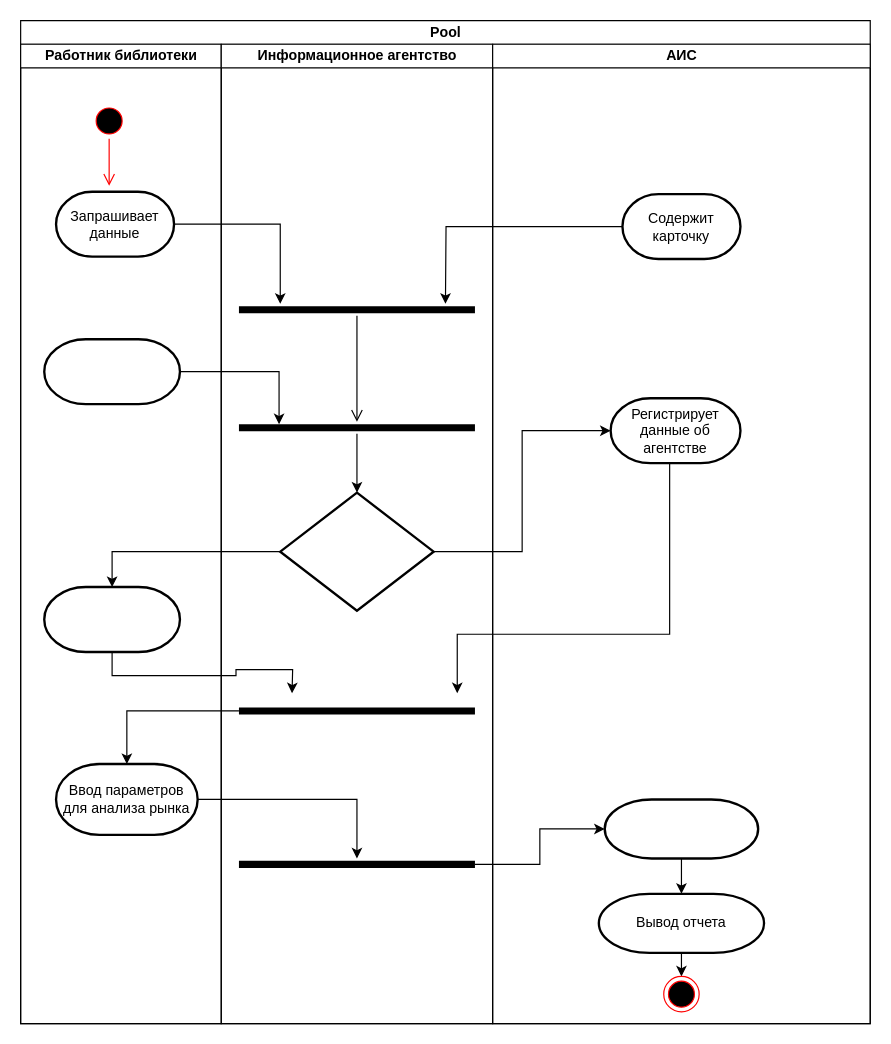
This 891x1044 diagram has some shape labels left out. The shapes that lost their labels are listed below. From the top down, each one's centre as x and y in pixels, then its label:
At (x=111, y=371): "Вводит данные об агентстве".
At (x=356, y=551): "Есть в системе?".
At (x=111, y=619): "Проверяет актуальность".
At (x=681, y=828): "Формирование отчета".
